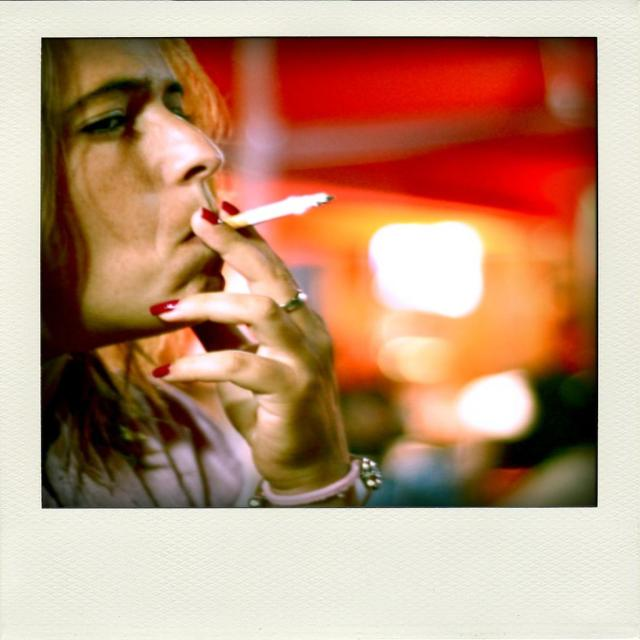smoking: (59, 66, 344, 315)
